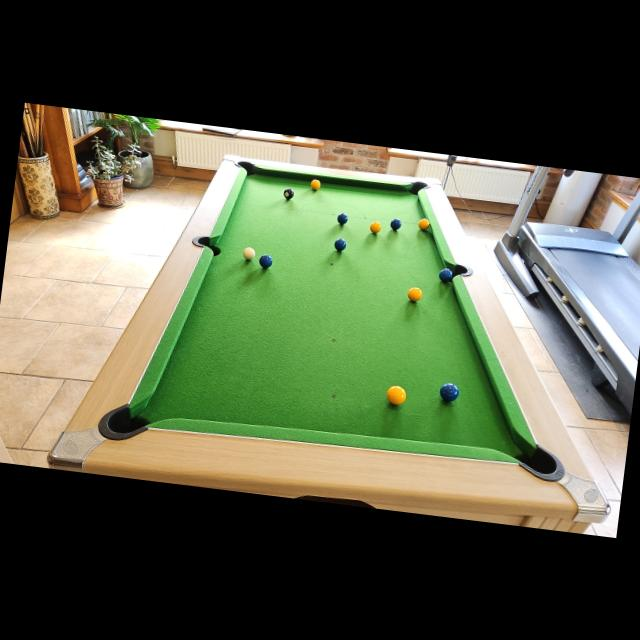Ball: (386, 385, 407, 407), (439, 382, 459, 404), (406, 286, 422, 302), (332, 238, 347, 252), (438, 268, 452, 282), (258, 254, 272, 268), (242, 247, 255, 261), (368, 220, 381, 233), (282, 188, 294, 200), (337, 213, 348, 225), (310, 178, 321, 190), (418, 218, 429, 230), (390, 219, 400, 230)
